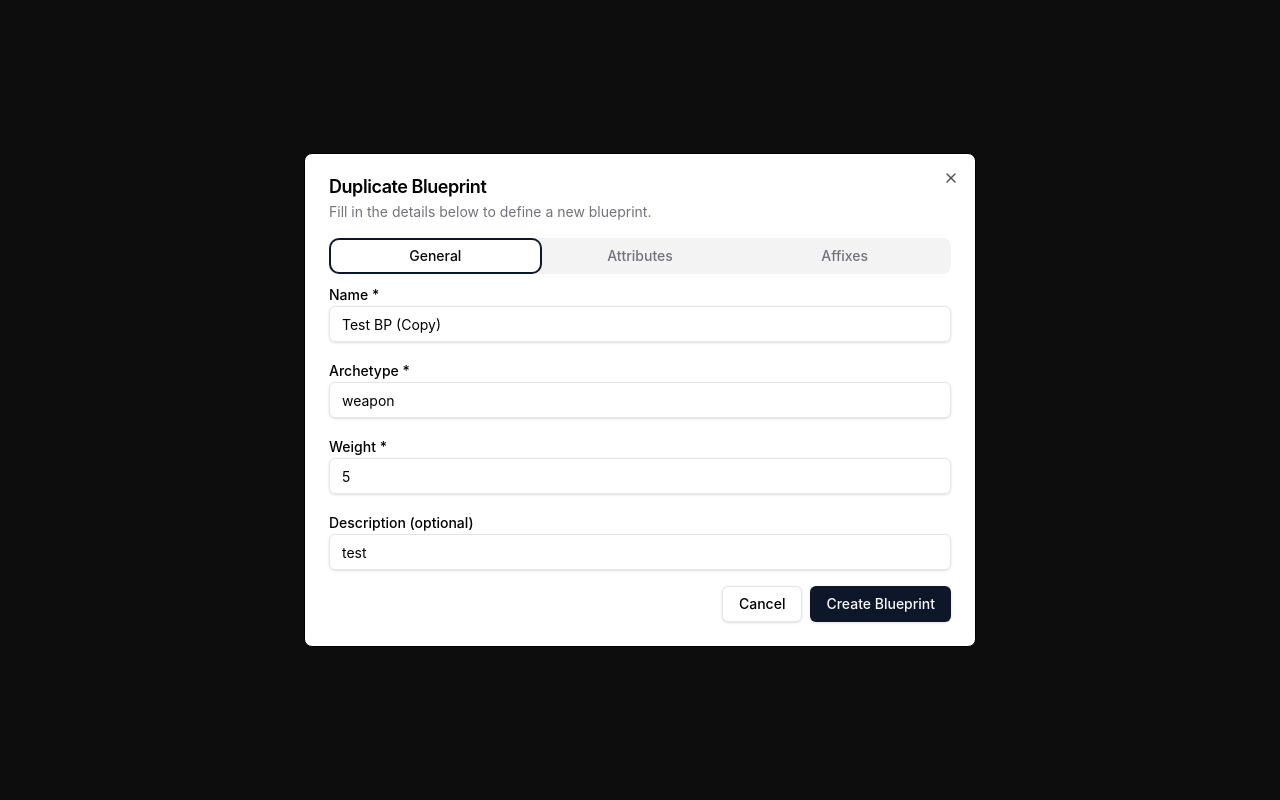
Scenario: BlueprintFormModal › Duplicate mode › pre-fills affix counts from source
This screenshot has width=1280, height=800.
Click the tab "Affixes". click: point(845, 256)
box: [742, 242, 947, 270]
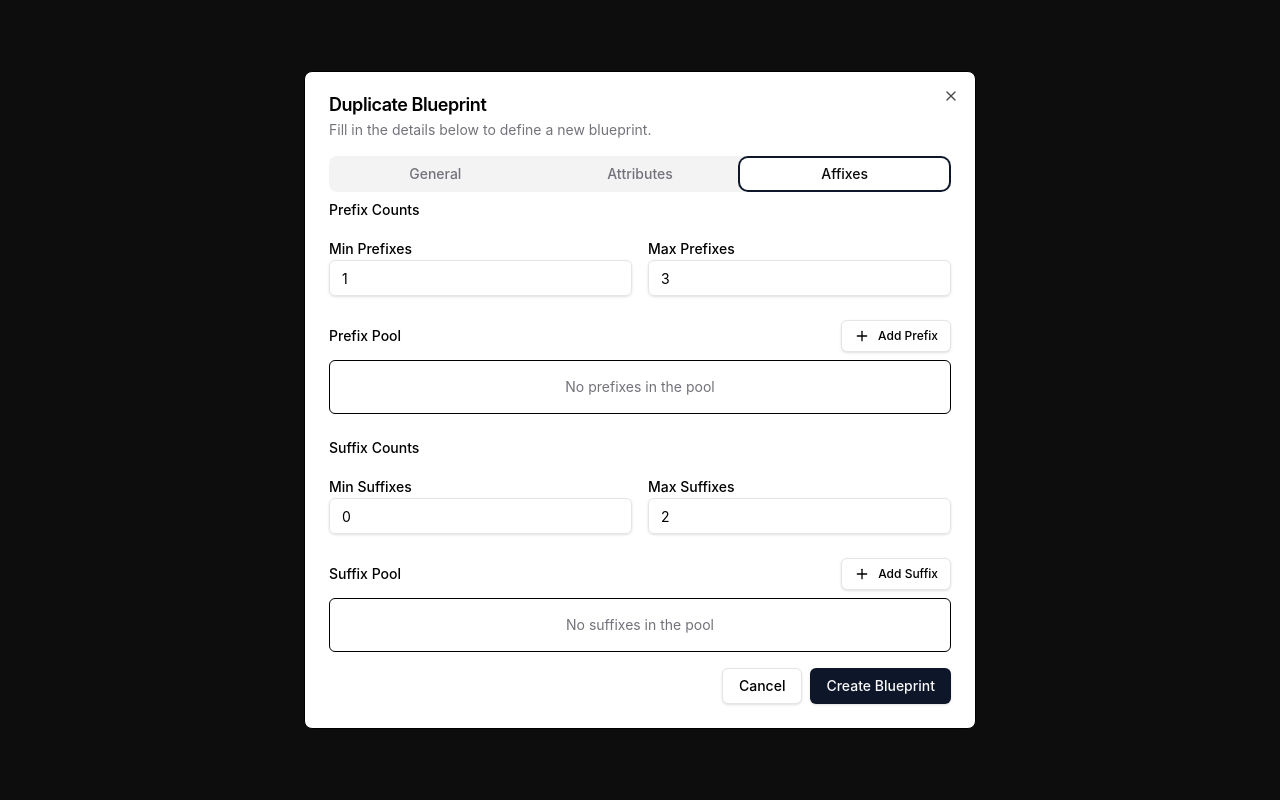
Check: the number field showing "1" is shown, box [329, 260, 632, 296]
Check: the number field showing "3" is shown, box [648, 260, 951, 296]
Check: the number field showing "0" is shown, box [329, 498, 632, 534]
